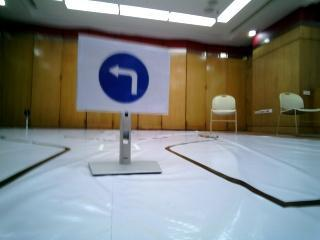left: (87, 42, 164, 114)
